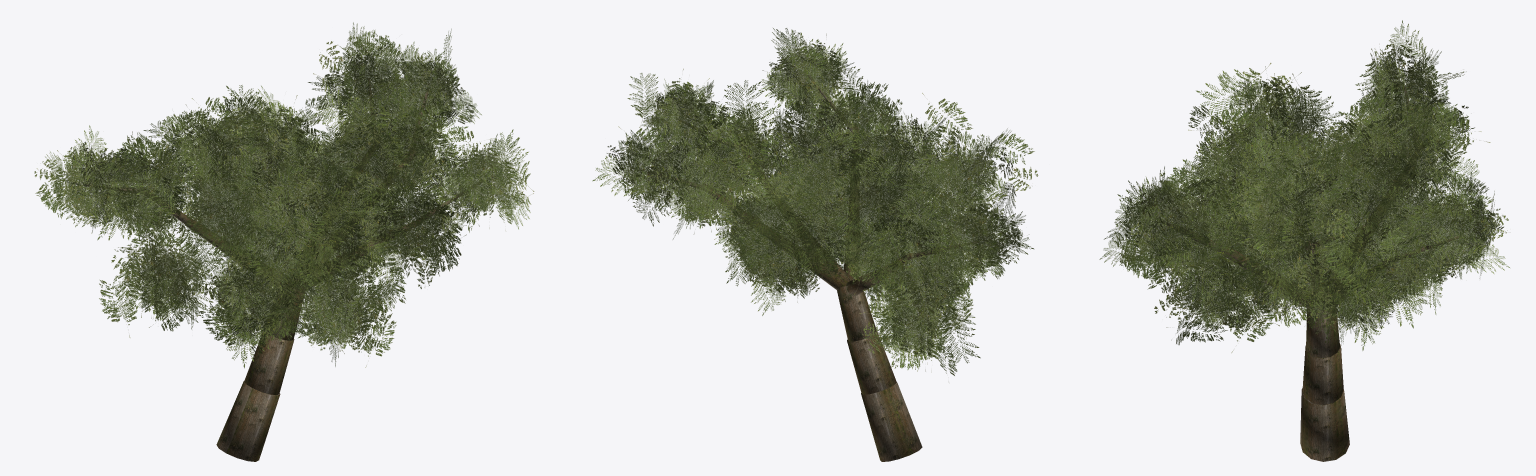
Rendered from olive_3.glb.
3 renders of one model, left to right at view 1: azimuth 30°, elevation 25°; view 2: azimuth 150°, elevation 25°; view 3: azimuth 270°, elevation 25°, orthographic. The views are drawn at different scales.
Visible parts, largest first — view 1: olive; view 2: olive; view 3: olive.
Part boxes in pixels (x1,y1,x2,y2): olive: (34, 22, 534, 461); olive: (592, 28, 1038, 461); olive: (1099, 20, 1509, 461).
Bounding box in the file's own units: 8.93 × 7.44 × 7.35.
Materials: 2 (2 with a texture image).
